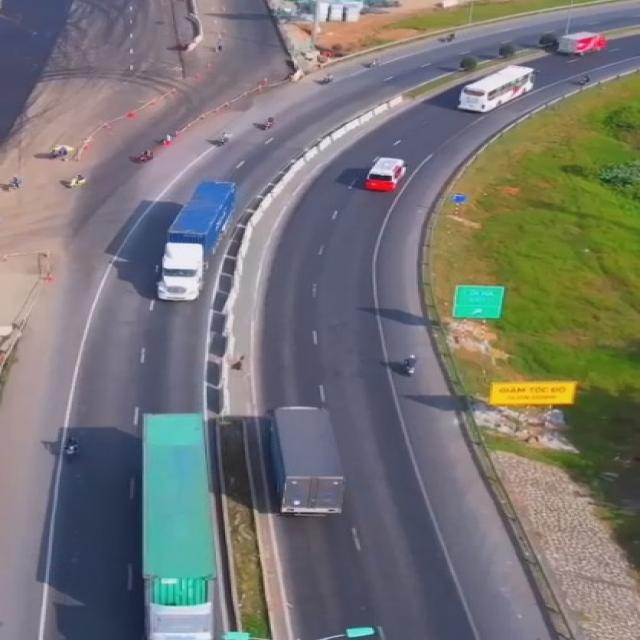bus: (454, 65, 539, 112), (361, 153, 403, 192)
motorbike: (398, 353, 418, 378), (62, 433, 80, 455)
truck: (132, 409, 222, 640), (252, 408, 346, 526), (160, 182, 235, 303), (555, 28, 607, 56)
